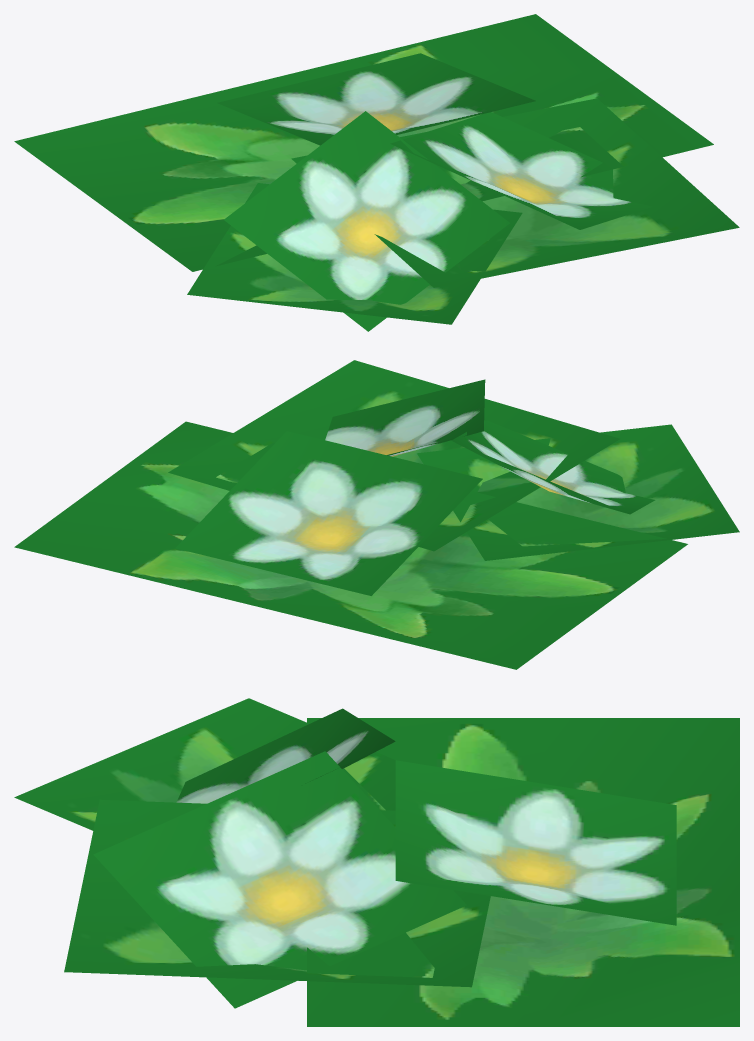
Rendered from 0160_T_ZhenYin_Hua02.glb.
3 renders of one model, top to bottom at view 1: azimuth 30°, elevation 25°; view 2: azimuth 150°, elevation 25°; view 3: azimuth 270°, elevation 25°, orthographic. The views are drawn at different scales.
Size of the model in its own units: 2.2 by 0.4419 by 2.07.
1 material, 1 textured.
